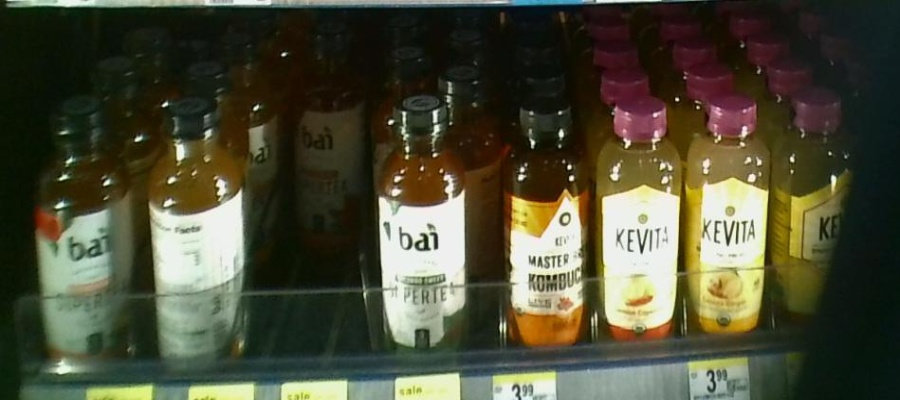bottle: (30, 97, 138, 377), (143, 96, 248, 381), (500, 96, 594, 354), (376, 93, 468, 353), (597, 99, 687, 339), (689, 90, 769, 345), (770, 77, 849, 328), (285, 26, 365, 250)
